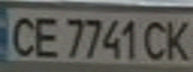1: (118, 16, 142, 61)
4: (100, 15, 124, 60)
7: (81, 15, 106, 58), (60, 14, 84, 58)
C: (3, 11, 42, 57), (139, 16, 172, 62)
E: (27, 12, 63, 60)
K: (160, 16, 193, 63)
